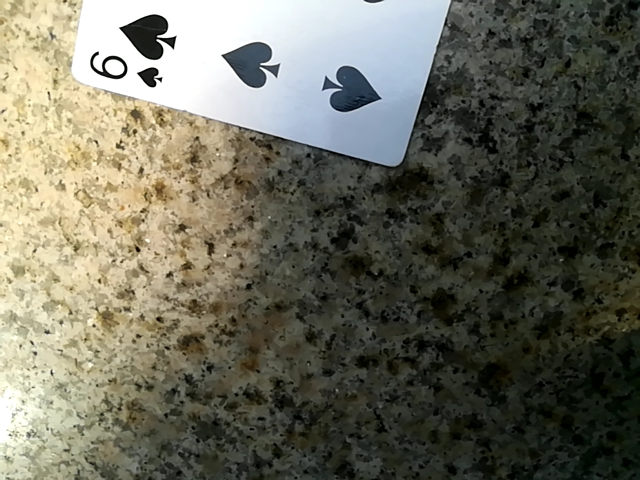ht 6: (61, 0, 472, 170)
